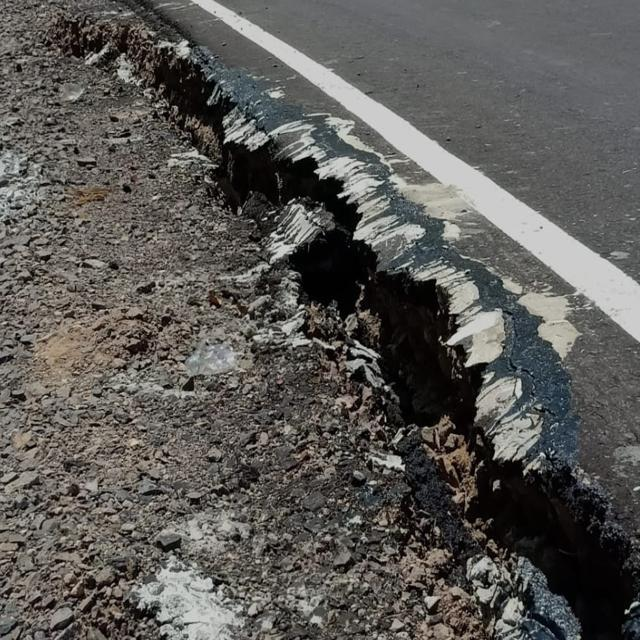Pinggir: (84, 15, 622, 638)
